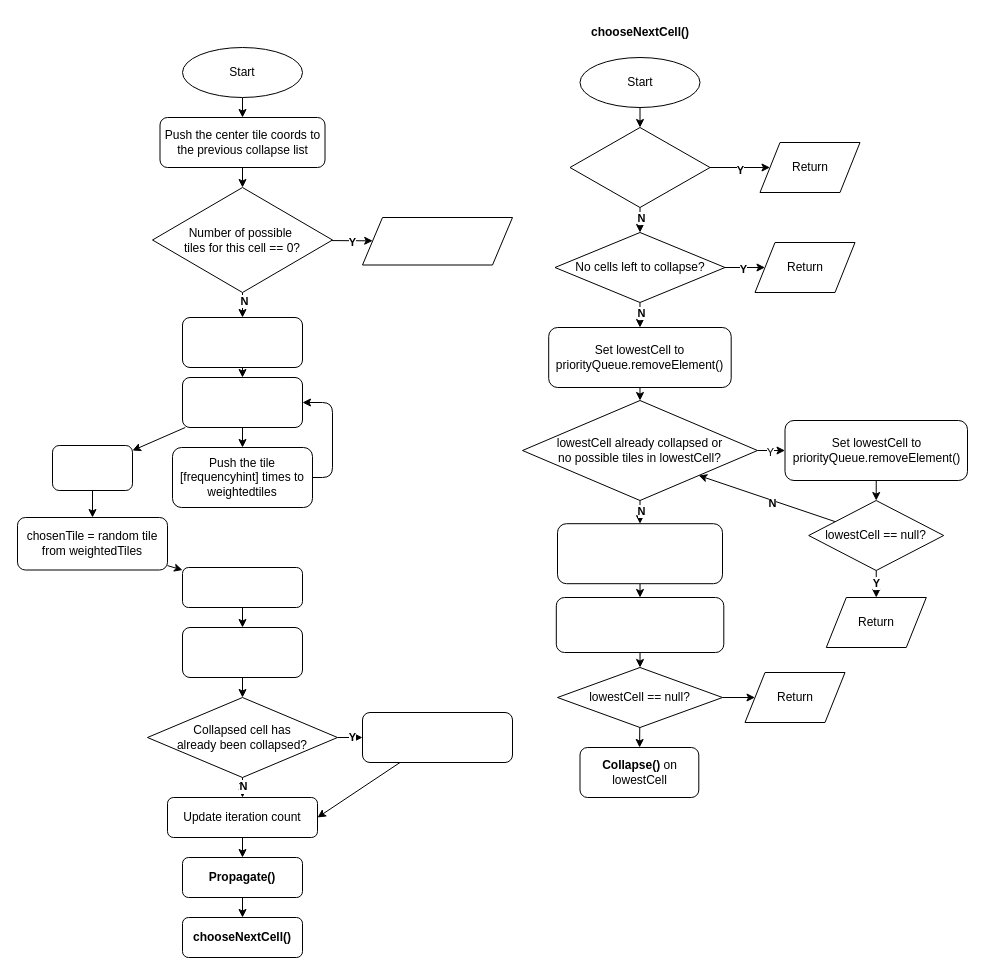
The diagram is 985 pixels wide and 975 high, and some of its shapes have lost their labels. Each missing label, with the centre of its shape:
"Clear possible tiles and set entropy = -1" goes at point (242, 652).
"Empy possible tiles" goes at point (242, 587).
"End loop" goes at point (92, 467).
"Every cell has been collapsed?" goes at point (639, 167).
"Loop: for tile in possible tiles" goes at point (242, 402).
"Push cell coordinates to collapsed cell list" goes at point (639, 553).
"Push this cell's coordinates to previous collapses" goes at point (437, 737).
"Remove duplicates in collapsed cell list" goes at point (639, 624).
"Throw RangeError" goes at point (437, 240).
"WeightedTiles = []" goes at point (242, 342).
